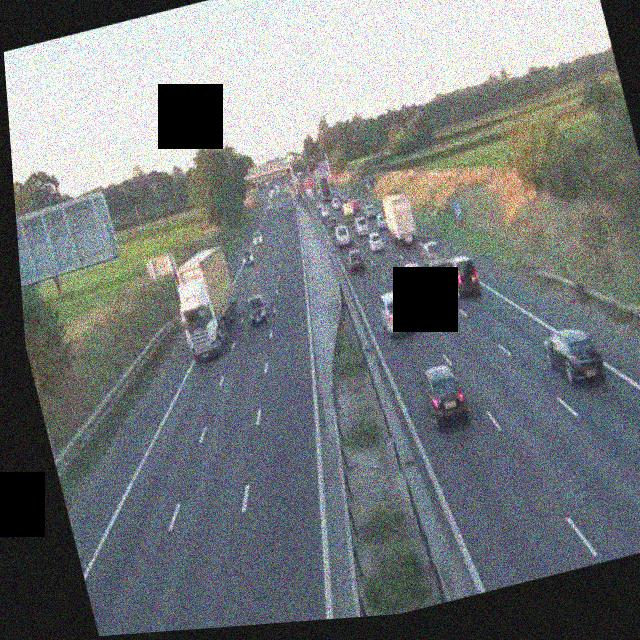car: (540, 320, 609, 392), (417, 360, 472, 432), (441, 252, 483, 302), (376, 287, 415, 337), (400, 257, 430, 294), (242, 291, 270, 326), (419, 237, 446, 268), (344, 247, 366, 272), (368, 230, 387, 253), (333, 225, 351, 246), (239, 246, 256, 267), (353, 217, 369, 238), (369, 206, 384, 224), (319, 206, 333, 223), (251, 229, 264, 246)
truck: (164, 241, 249, 362), (378, 189, 419, 249), (318, 171, 334, 195), (307, 175, 321, 197)
